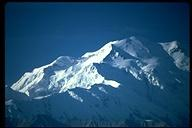mountain: (7, 30, 191, 121)
sky: (13, 5, 89, 50), (65, 61, 124, 91)
